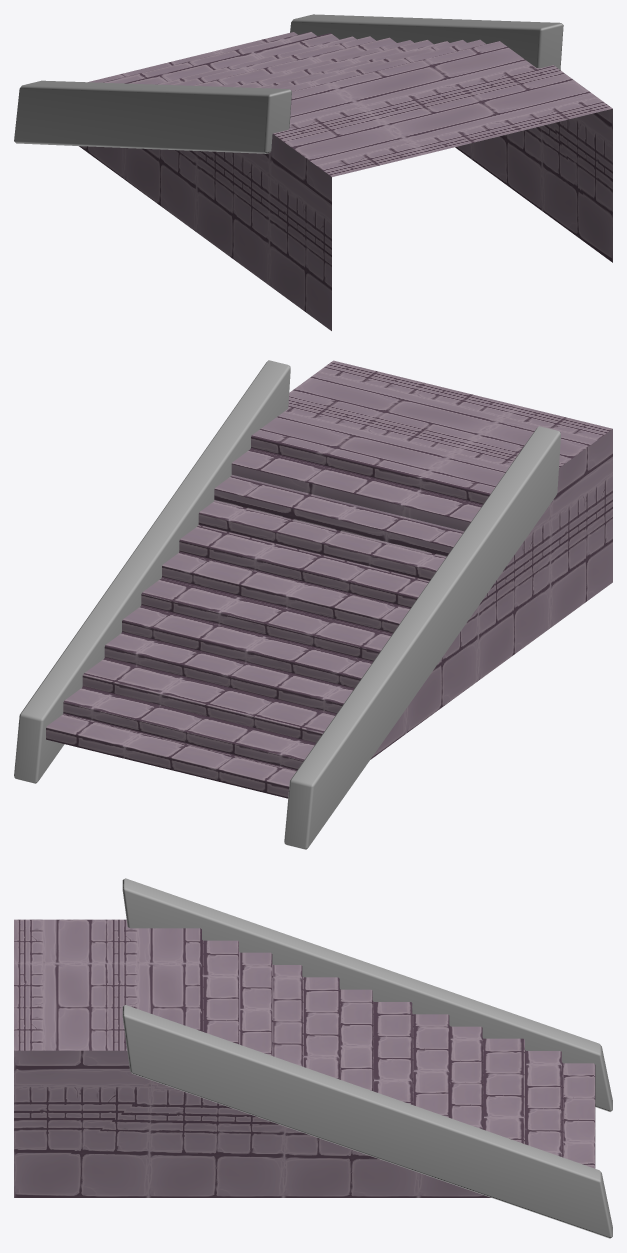
File: Front Stair.fbx
3 views of the same model, one above another, from view 1: azimuth 30°, elevation 25°; view 2: azimuth 150°, elevation 25°; view 3: azimuth 270°, elevation 25° (orthographic). The views are drawn at different scales.
Visible parts, largest first — view 1: pCube426; view 2: pCube426; view 3: pCube426.
Boxes of the visible parts, x1,y1,x2,y2 form: pCube426: (14, 14, 612, 330); pCube426: (14, 360, 612, 849); pCube426: (14, 878, 612, 1238).
Size of the model in its own units: 625 by 475 by 1146.
